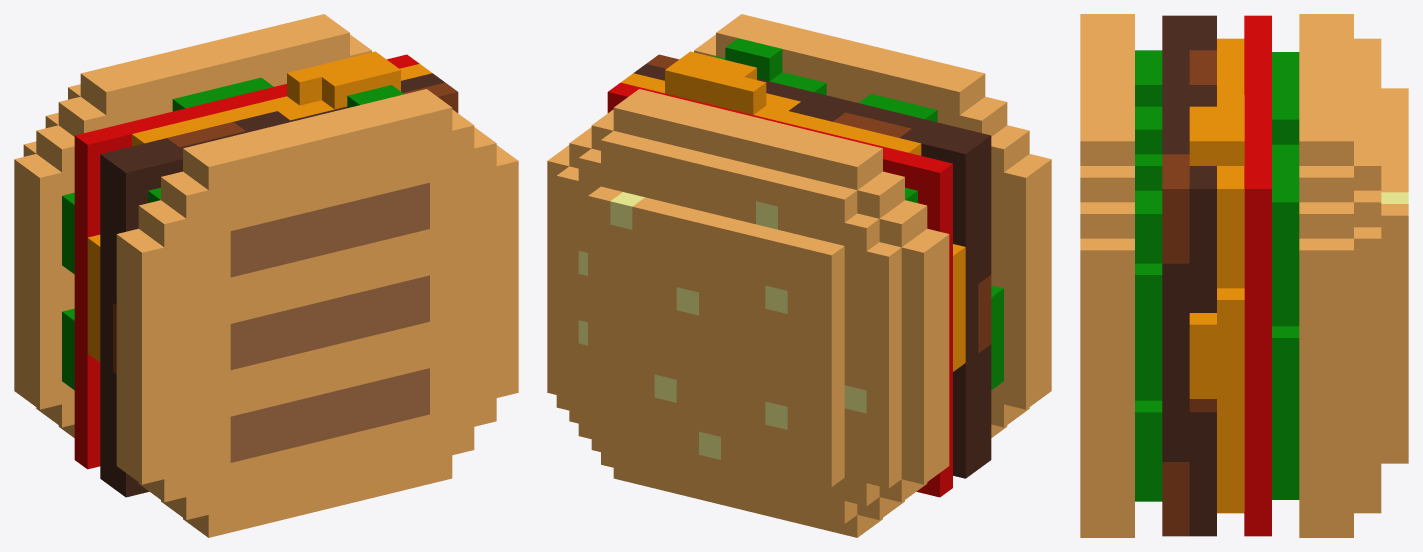
File: Burger.obj
The picture shows the model from 3 angles, left to right: view 1: azimuth 30°, elevation 25°; view 2: azimuth 150°, elevation 25°; view 3: azimuth 270°, elevation 25°; orthographic projection. The views are drawn at different scales.
Visible parts, largest first — view 1: Untitled.001; view 2: Untitled.001; view 3: Untitled.001.
Part boxes in pixels (<box>): Untitled.001: <box>14,14,518,537</box>; Untitled.001: <box>547,14,1051,537</box>; Untitled.001: <box>1080,14,1408,537</box>.
Bounding box in the file's own units: 1.7 × 1.6 × 1.2.
1 material, 1 textured.
